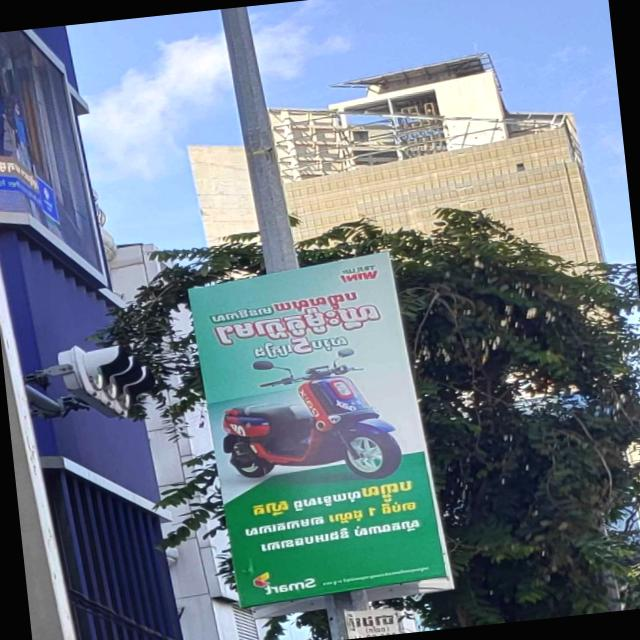1: (256, 514, 425, 555)
31: (325, 497, 417, 526)
764: (285, 336, 316, 356)
Yolov11_80vkh: (206, 297, 386, 349), (270, 288, 361, 318), (241, 513, 327, 538), (290, 487, 362, 513), (359, 478, 416, 506), (207, 303, 275, 325), (247, 497, 291, 521), (246, 340, 294, 361), (308, 334, 354, 353)
